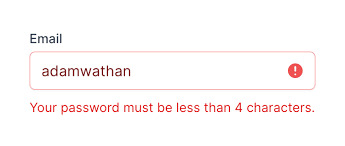error_field: (29, 50, 317, 91)
error_message: (28, 101, 315, 113)
